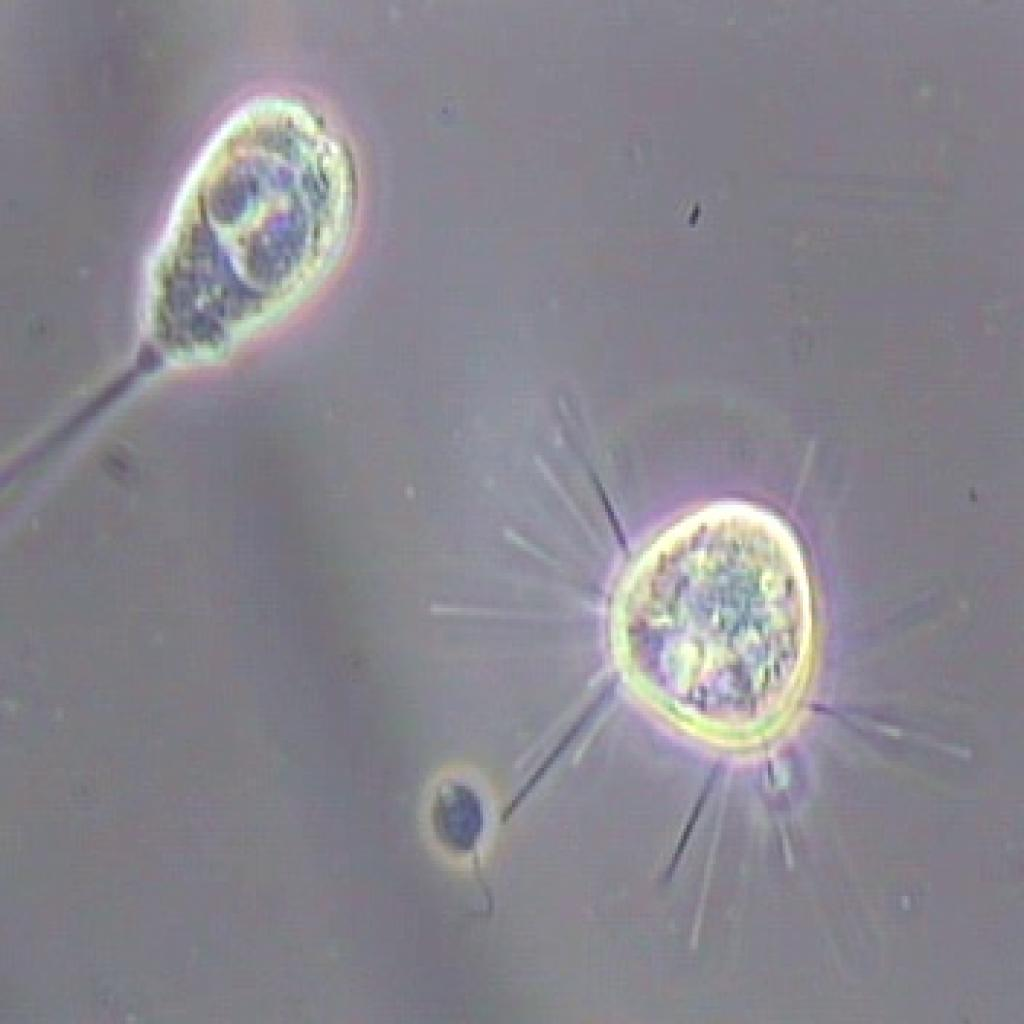Flagellates: (414, 761, 508, 935)
